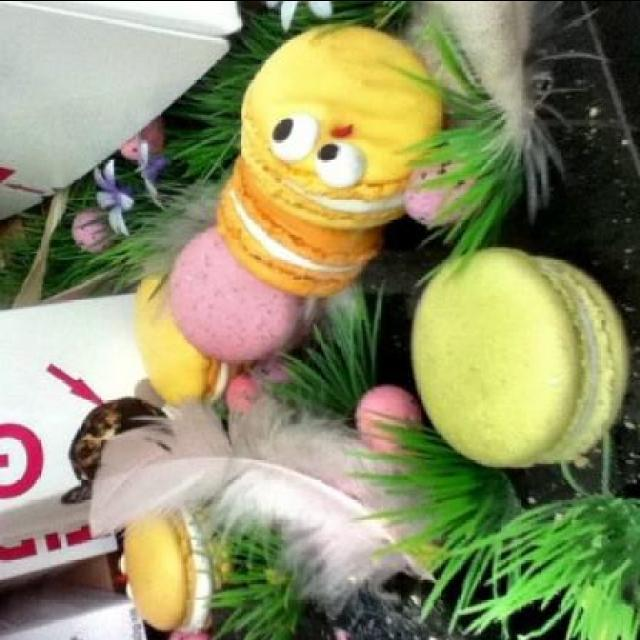Macaron: (128, 13, 440, 405), (408, 237, 628, 475), (122, 494, 220, 634)
